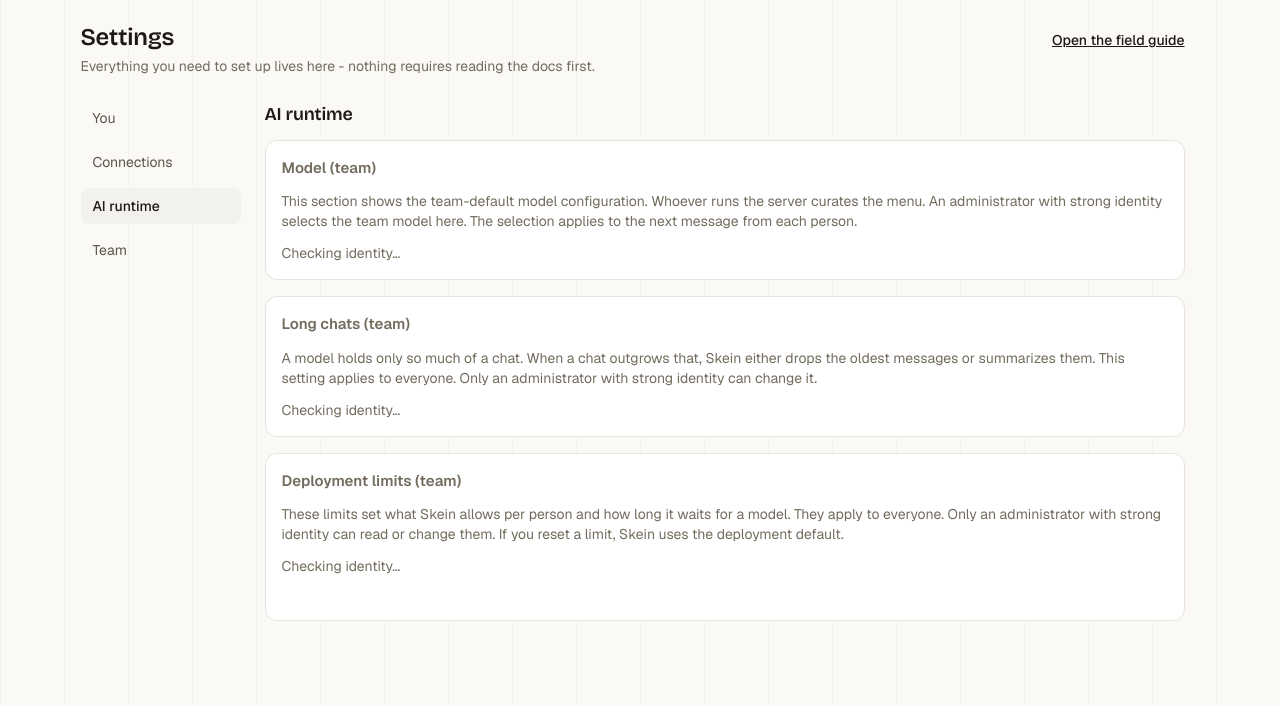
Test case: the model section › says the setting is not in use on mock, and shows no picker
Click the link "AI runtime": coordinates (160, 206) [80,188,240,224]
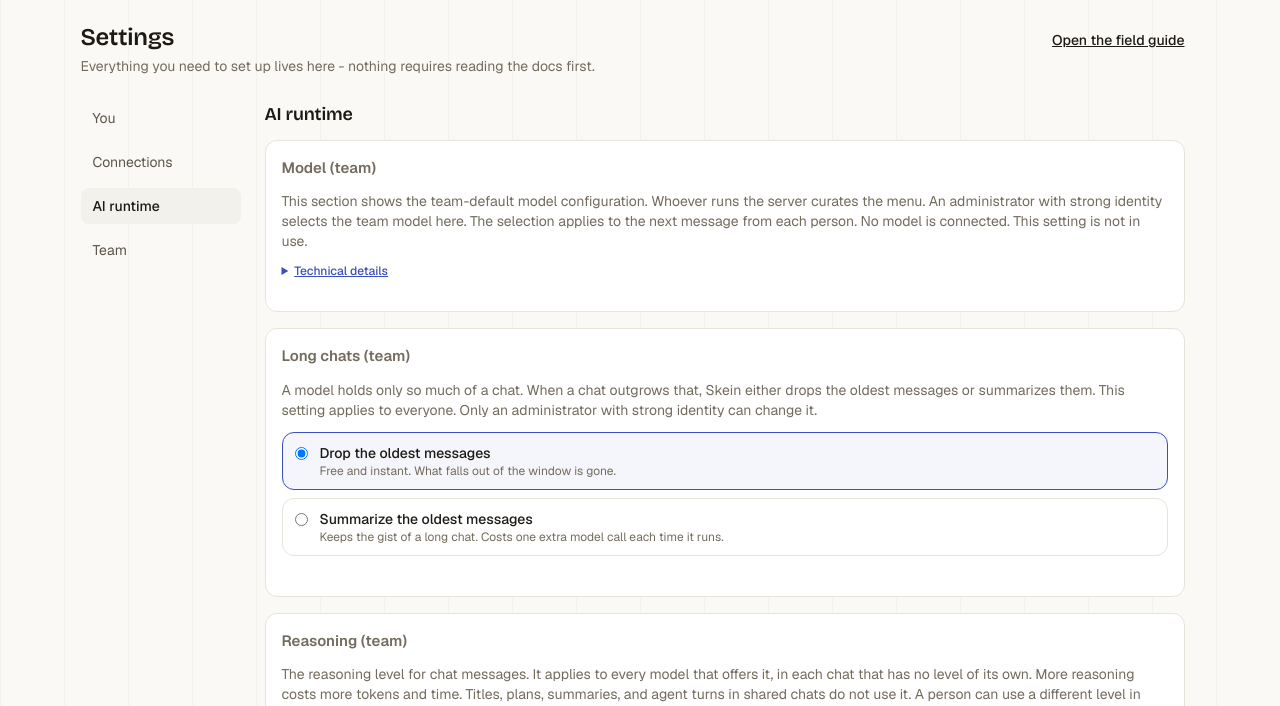
Now the text "No model is connected. This setting is not in use." is shown, box [282,212,1140,250]
